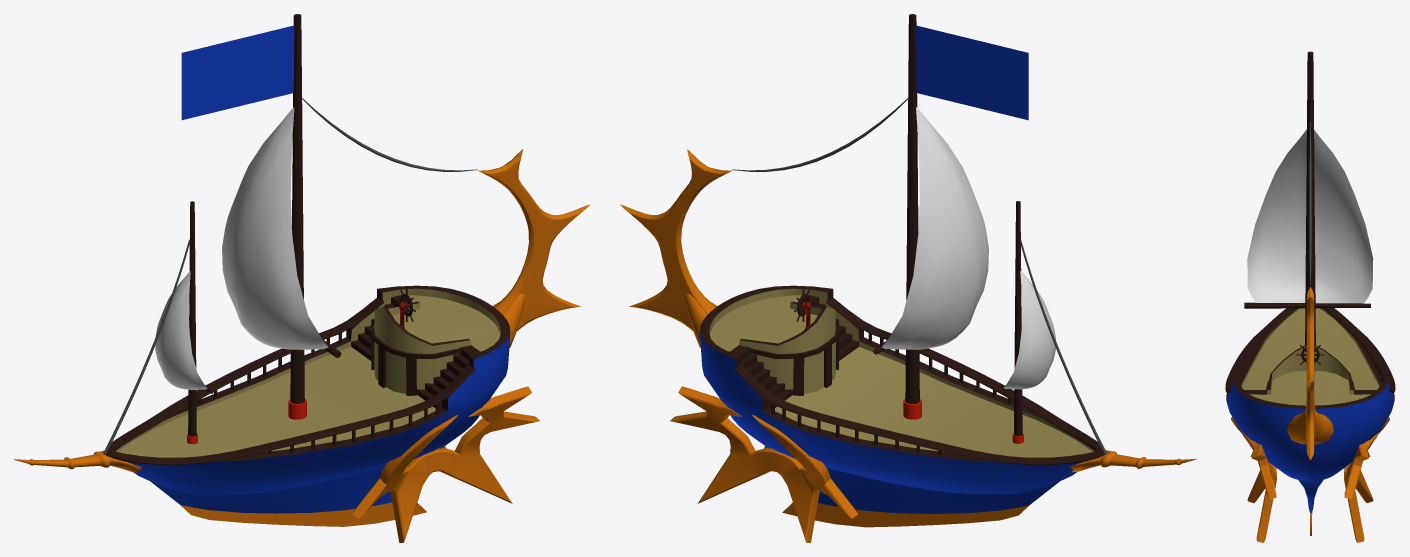
The model's file is Boat_PH.fbx.
3 renders of one model, left to right at view 1: azimuth 30°, elevation 25°; view 2: azimuth 150°, elevation 25°; view 3: azimuth 270°, elevation 25°, orthographic. The views are drawn at different scales.
Parts seen in each view (by area): view 1: PH_Boat; view 2: PH_Boat; view 3: PH_Boat.
Boxes of the visible parts, x1=… form: PH_Boat: x1=14, y1=14, x2=590, y2=542; PH_Boat: x1=620, y1=14, x2=1196, y2=542; PH_Boat: x1=1225, y1=51, x2=1395, y2=542.
Bounding box in the file's own units: 1600 × 1400 × 500.
